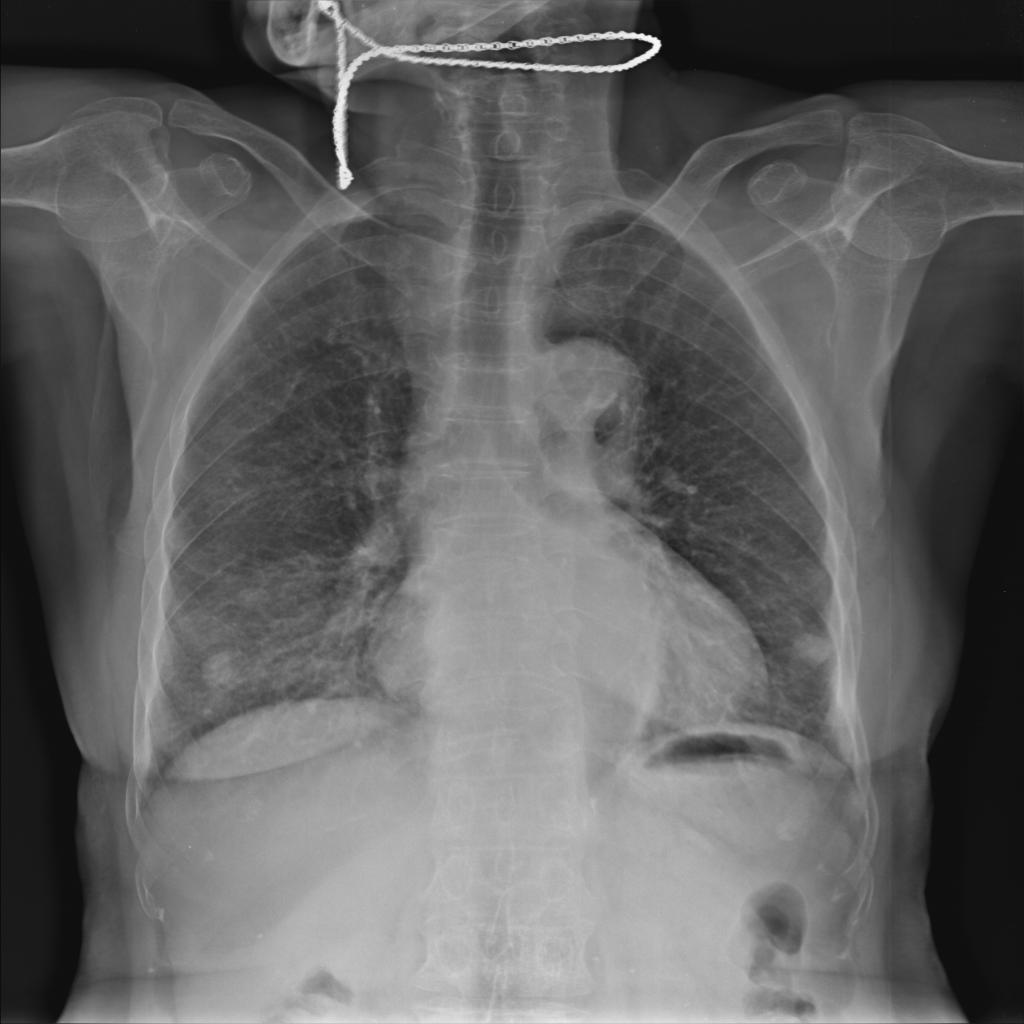Nodule: (795, 631, 833, 665), (201, 659, 241, 688)
